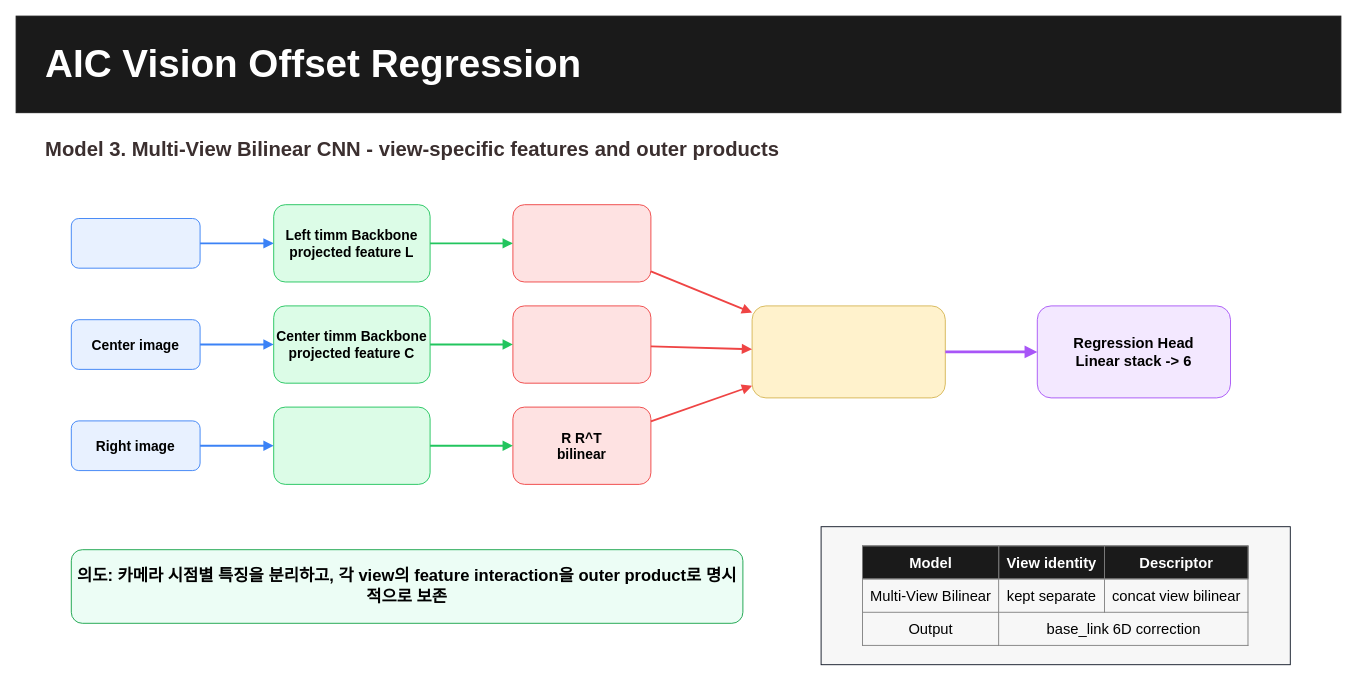
Some shapes in this 1357 by 681 pixel diagram are drawn without their labels. The shapes that lost their labels are listed below. From the top down, each one's centre as x and y in pixels, then its label:
[135,243]: Left image
[581,243]: L L^T bilinear
[581,344]: C C^T bilinear
[848,351]: Concat [LL^T, CC^T, RR^T]
[351,445]: Right timm Backbone projected feature R
